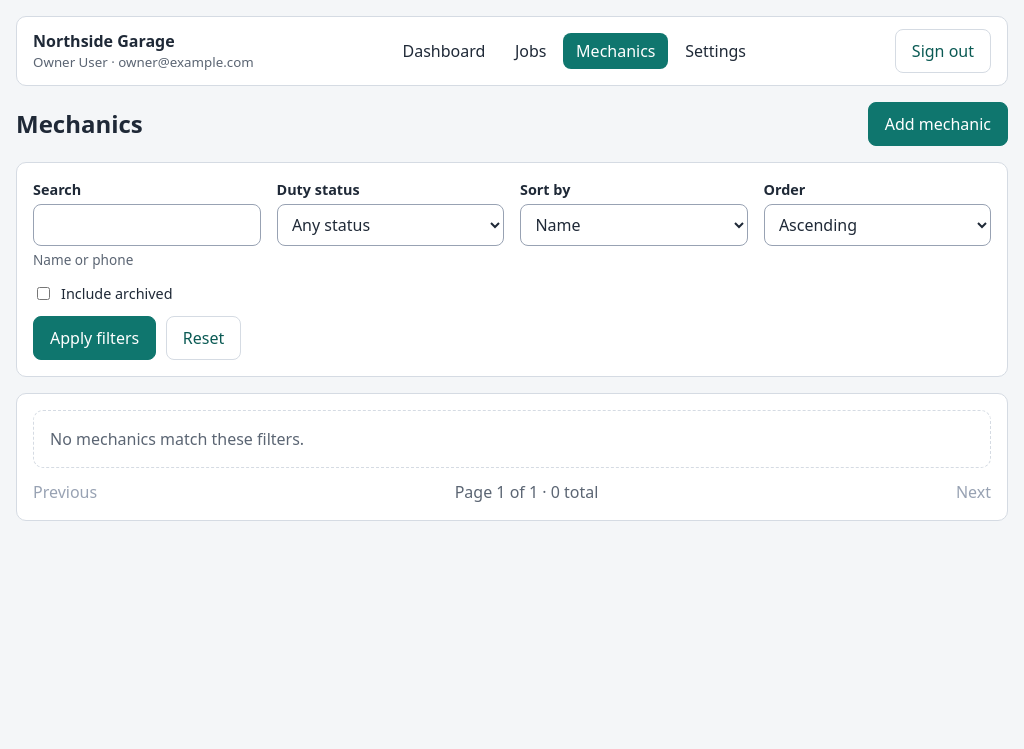
Test: GOSSA owner app › renders mechanics from the paginated list and refreshes after creating one
Check: the text "No mechanics match these filters." is shown, box [33,410,991,468]
Click the button "Add mechanic" at [938, 124], box [868,102,1008,146]
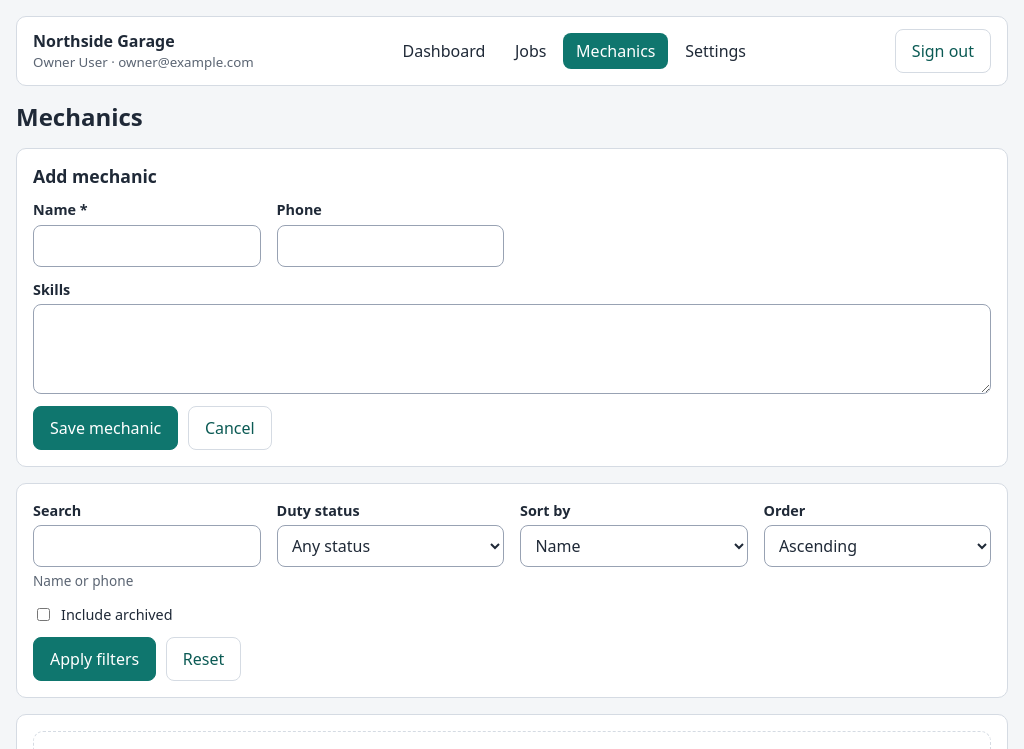
Click the button "Save mechanic" at [106, 428], box [33,406,178,450]
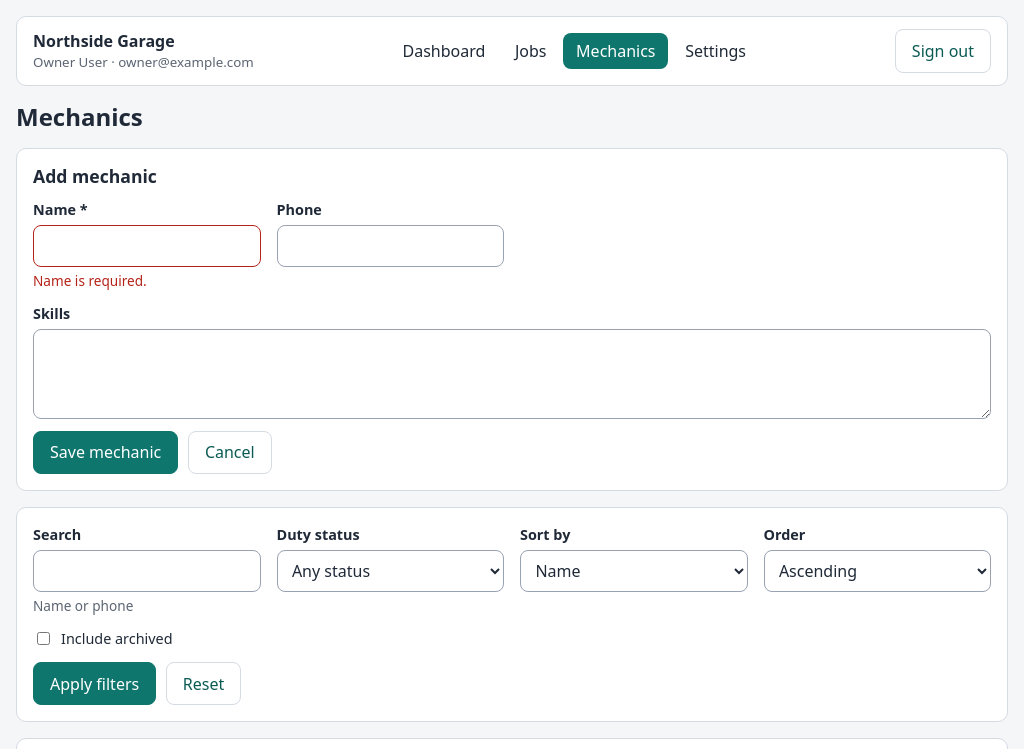
Check: the text "Name is required." is shown, box [33,271,147,290]
Type "  Alex Mechanic " into the field labelled "Name *" at [147, 246], box [33,225,260,267]
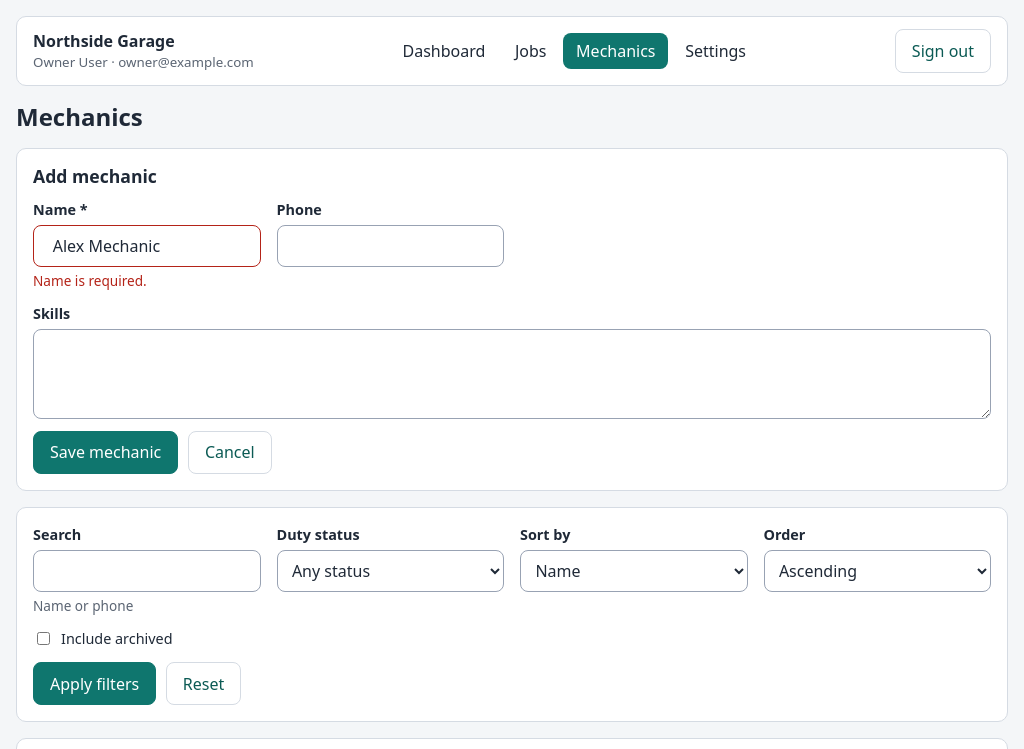
Click the button "Save mechanic" at [106, 452], box [33,431,178,474]
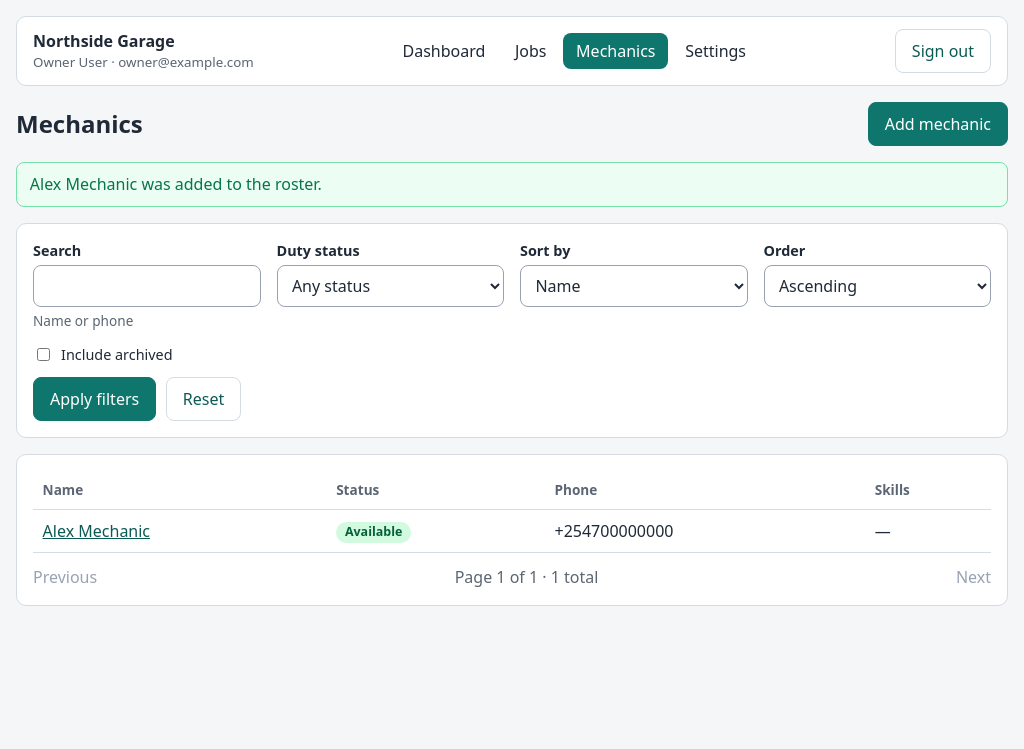
Check: the link "Alex Mechanic" is shown, box [43,520,150,542]
